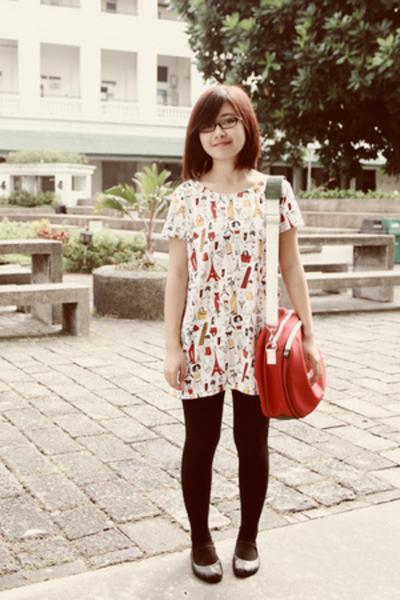bag: (252, 168, 335, 419)
dress: (156, 160, 299, 405)
shoe: (190, 544, 260, 599)
